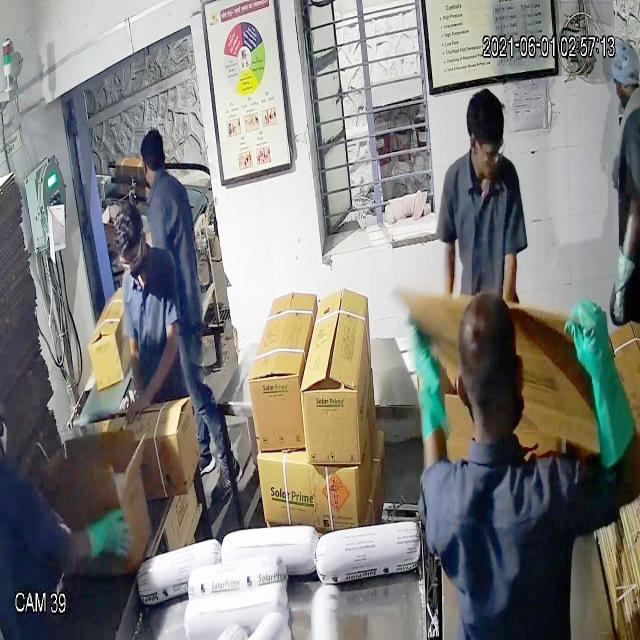glasses: (115, 241, 147, 275)
